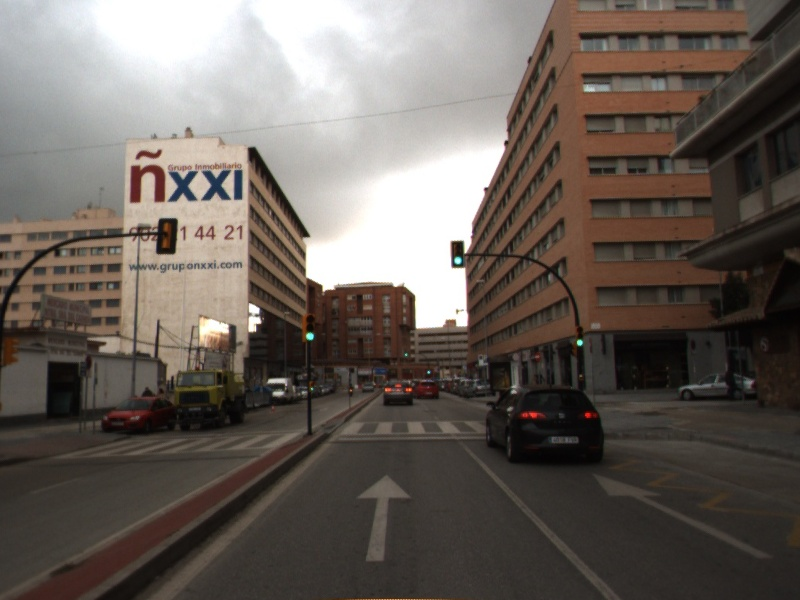STRAIGHT: (589, 470, 775, 561), (352, 471, 416, 564)
